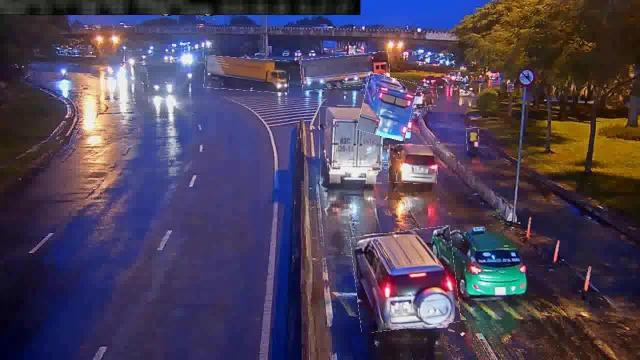Bike: (466, 128, 479, 152)
Bus: (360, 75, 416, 139)
Car: (354, 228, 458, 330), (388, 144, 438, 184), (406, 88, 438, 108)
Truck: (320, 106, 382, 184), (300, 53, 390, 89), (204, 56, 290, 92)
